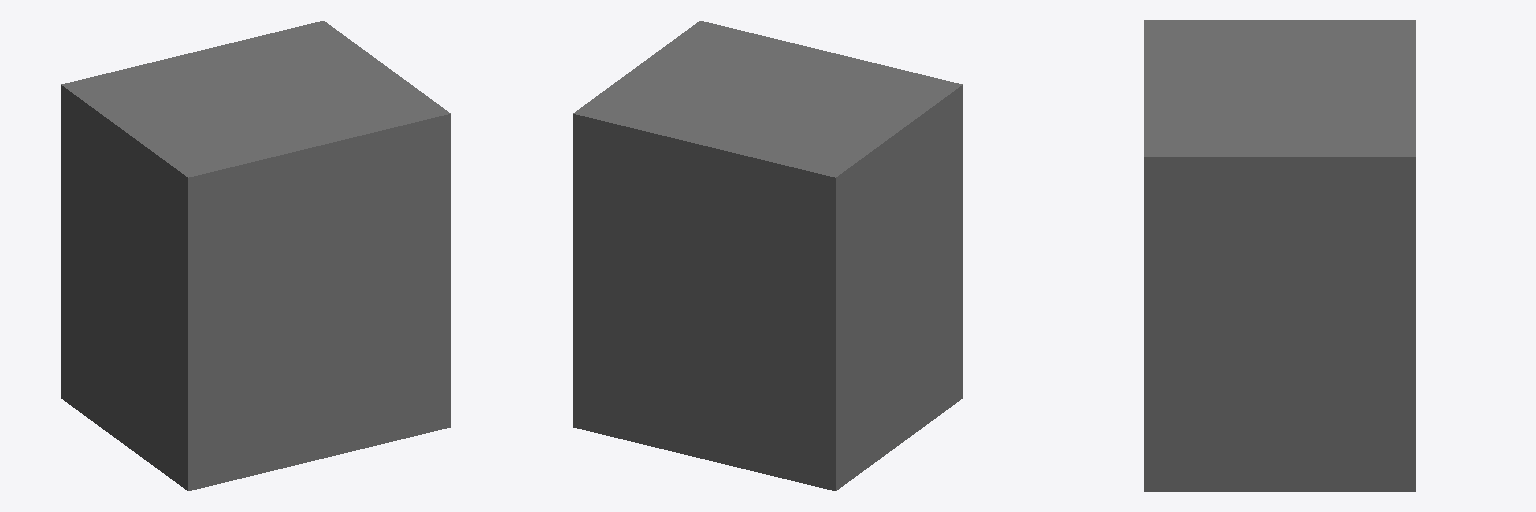
URDF robot description (box.urdf):
<?xml version="1.0" ?>
<robot name="box.urdf">
  <link name="baseLink">
    <contact>
      <lateral_friction value="1.0"/>
      <rolling_friction value="0.0001"/>
      <inertia_scaling value="3.0"/>
    </contact>
    <inertial>
      <origin rpy="0 0 0" xyz="0 0 0"/>
       <mass value="0.1"/>
       <inertia ixx="1" ixy="0" ixz="0" iyy="1" iyz="0" izz="1"/>
    </inertial>
    <visual>
      <origin rpy="0 0 0" xyz="0 0 0"/>
      <geometry>
        <!-- <box size="0.242 0.203 0.276"/> -->
        <mesh filename="box/box.obj" scale="0.242 0.203 0.276"/>
      </geometry>
      <material name="white">
        <color rgba="0.5 0.5 0.5 1"/>
      </material>
    </visual>
    <collision>
      <origin rpy="0 0 0" xyz="0 0 0"/>
      <geometry>
        <mesh filename="box/box.obj" scale="0.242 0.203 0.276"/>
	 	    <!-- <box size="0.242 0.203 0.276"/> -->
      </geometry>
    </collision>
  </link>
</robot>

--- Facts derived from the render (not from the file) ---
3 views of the same robot in one strip: view 1: azimuth 30°, elevation 25°; view 2: azimuth 150°, elevation 25°; view 3: azimuth 270°, elevation 25° (orthographic).
Robot: box.urdf — 1 links, 0 joints (none); root link baseLink; default pose: all joints at 0.
Links seen in each view (by area): view 1: baseLink; view 2: baseLink; view 3: baseLink.
Link boxes in pixels (left/top/right/bottom): baseLink: left=61, top=21, right=450, bottom=490; baseLink: left=573, top=21, right=962, bottom=490; baseLink: left=1144, top=20, right=1415, bottom=491.
Bounding box of the posed robot: 0.242 × 0.203 × 0.276 m (x, y, z).
1 mesh visuals loaded from 1 distinct referenced files (1 OBJ).
